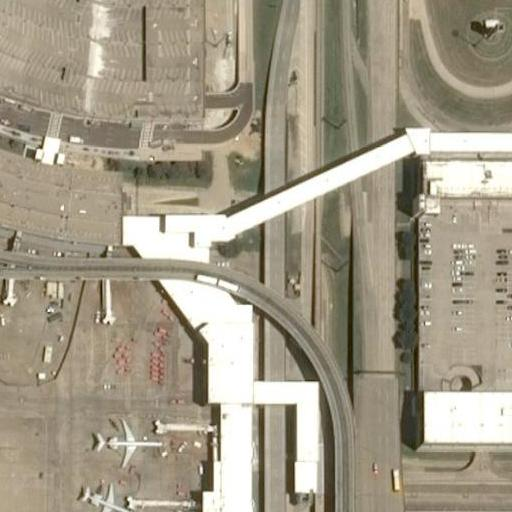Aircraft: (83, 410, 165, 472), (71, 468, 141, 512)
